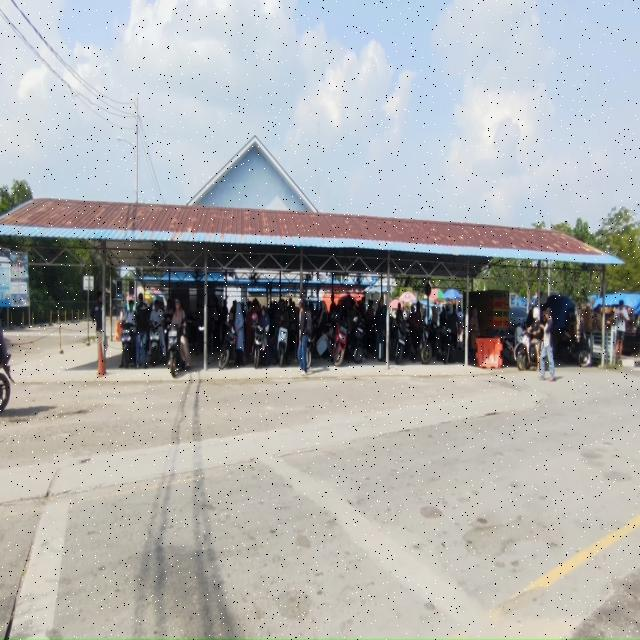Golongan II: (557, 334, 591, 367), (168, 319, 187, 378), (514, 326, 538, 371), (219, 324, 237, 370), (349, 318, 365, 364), (332, 321, 348, 366), (120, 322, 135, 368), (168, 325, 181, 378), (436, 326, 454, 364), (149, 322, 164, 367), (394, 319, 408, 365), (419, 320, 433, 364), (253, 324, 266, 369), (277, 326, 289, 367)
